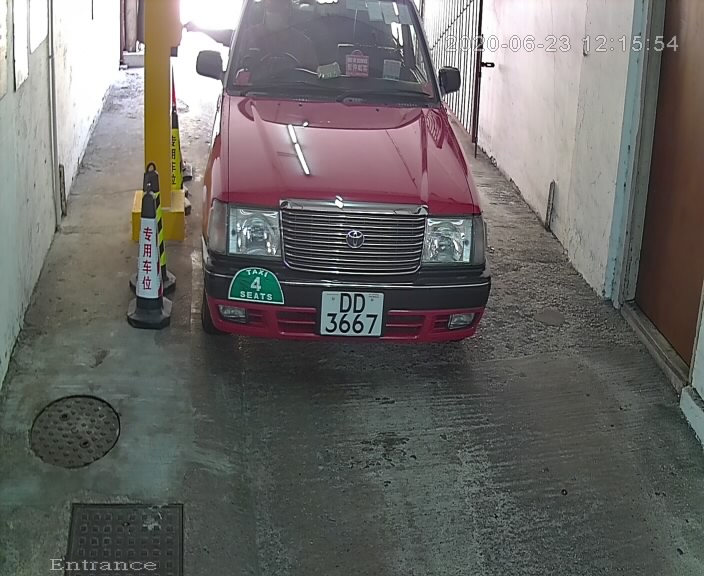taxi: (182, 1, 501, 362)
taxi_mark: (227, 260, 284, 312)
